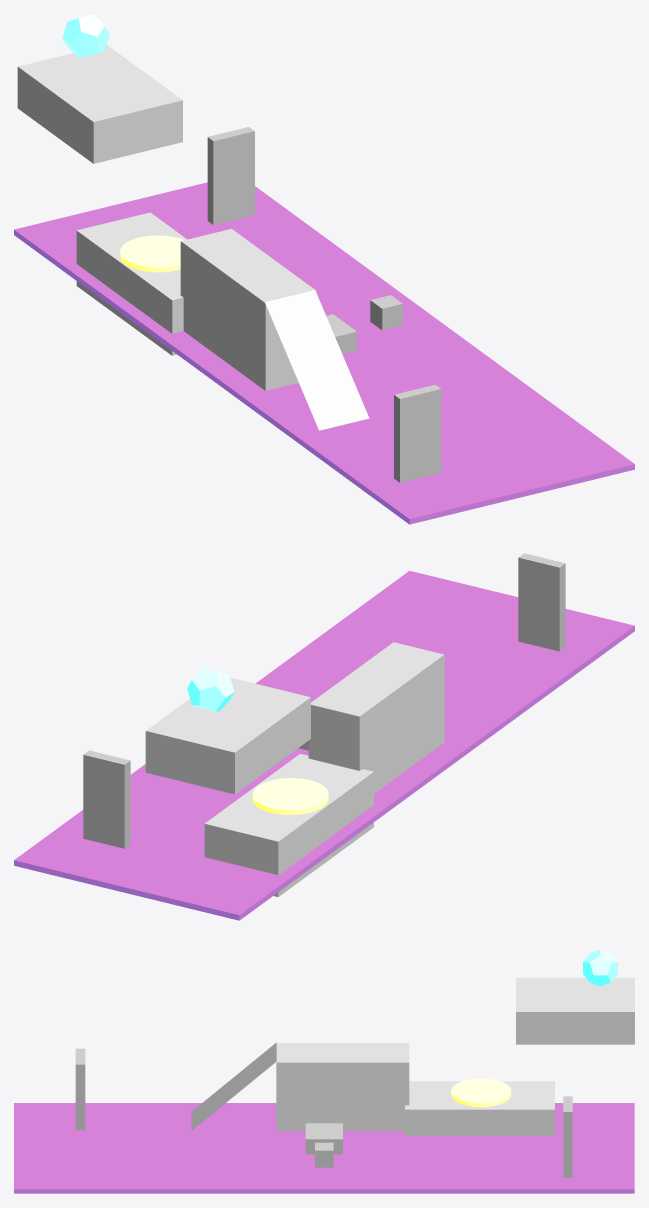
File: level.glb
3 renders of one model, top to bottom at view 1: azimuth 30°, elevation 25°; view 2: azimuth 150°, elevation 25°; view 3: azimuth 270°, elevation 25°, orthographic. The views are drawn at different scales.
Parts seen in each view (by area): view 1: Box, Box.002, Box.001, Plane, Box.003, Door_room2, LockedDoor_key_room2, JumpPad, Goal, Item_key, Cube; view 2: Box, Box.001, Box.002, Box.003, LockedDoor_key_room2, Door_room2, JumpPad, Goal; view 3: Box, Box.001, Box.002, Box.003, Plane, JumpPad, Goal, Cube, Door_room2, LockedDoor_key_room2, Item_key.
Part boxes in pixels (<box>): Box: <box>14,182,634,524</box>; Box.002: <box>17,45,182,163</box>; Box.001: <box>180,228,316,390</box>; Plane: <box>265,290,369,430</box>; Box.003: <box>76,212,186,355</box>; Door_room2: <box>394,384,441,482</box>; LockedDoor_key_room2: <box>207,127,254,224</box>; JumpPad: <box>120,235,184,272</box>; Goal: <box>62,14,109,58</box>; Item_key: <box>370,295,402,330</box>; Cube: <box>326,314,356,353</box>; Box: <box>14,570,634,920</box>; Box.001: <box>308,642,444,793</box>; Box.002: <box>145,677,310,794</box>; Box.003: <box>204,753,373,897</box>; LockedDoor_key_room2: <box>83,750,130,848</box>; Door_room2: <box>518,553,565,651</box>; JumpPad: <box>252,778,328,814</box>; Goal: <box>187,668,234,711</box>; Box: <box>14,1103,634,1193</box>; Box.001: <box>276,1043,409,1131</box>; Box.002: <box>516,977,634,1044</box>; Box.003: <box>405,1081,554,1135</box>; Plane: <box>191,1042,276,1130</box>; JumpPad: <box>451,1078,511,1107</box>; Goal: <box>583,949,617,986</box>; Cube: <box>305,1123,342,1154</box>; Door_room2: <box>75,1048,85,1130</box>; LockedDoor_key_room2: <box>563,1096,572,1177</box>; Item_key: <box>315,1142,333,1167</box>.
Bounding box in the file's own units: 10.89 × 11.14 × 33.11.
